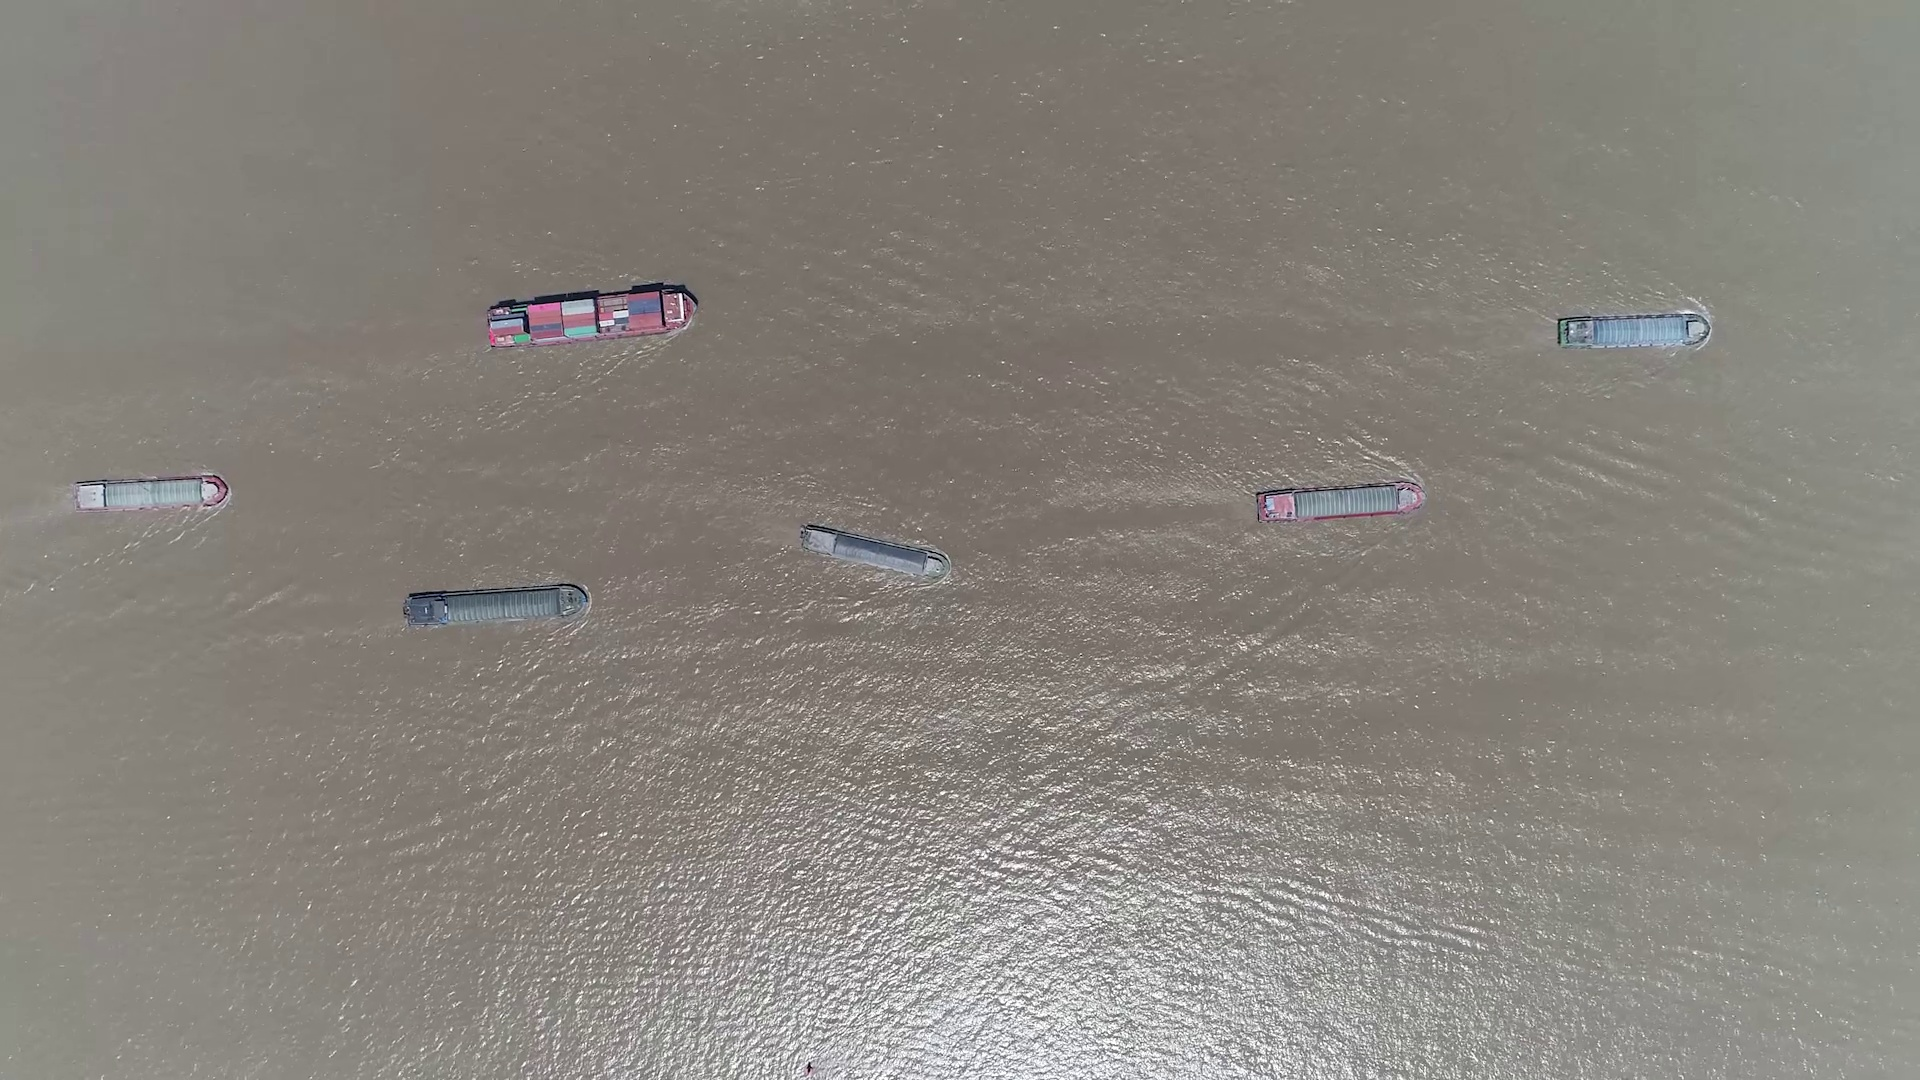ship: (485, 285, 698, 349), (798, 524, 949, 579), (404, 584, 589, 626), (1255, 481, 1425, 524), (74, 476, 229, 510), (1557, 315, 1706, 347)
